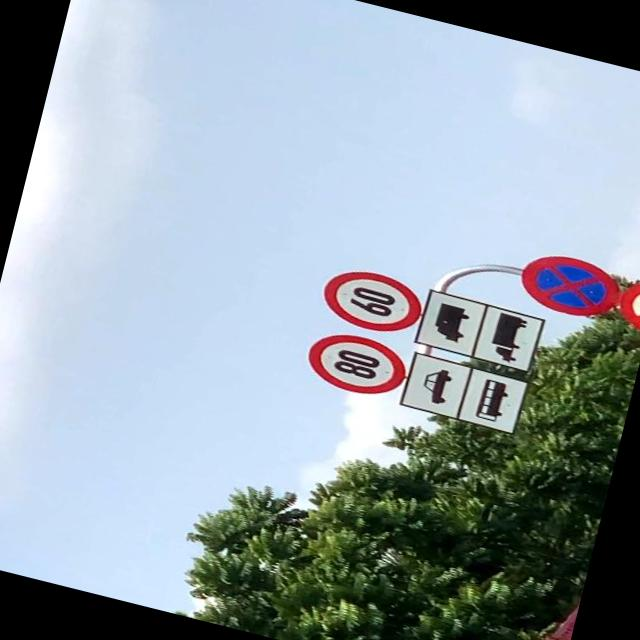P-127: (315, 260, 428, 340), (300, 323, 412, 402)
P-130: (512, 247, 622, 323)
